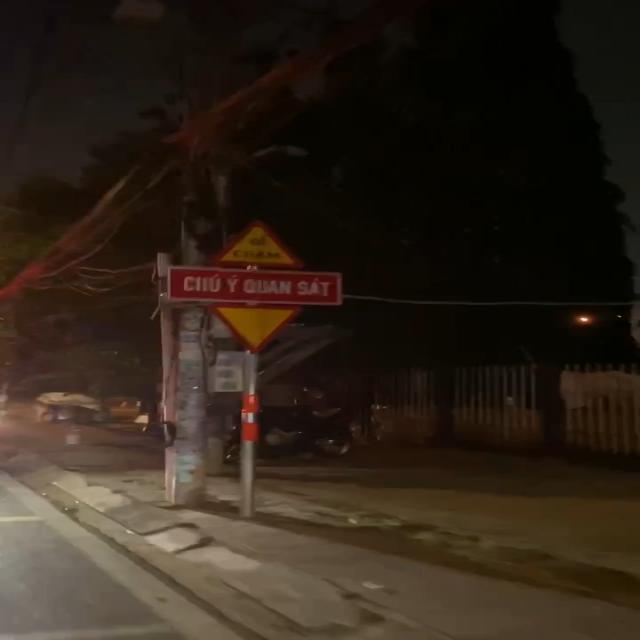208-giao-nhau-voi-duong-uu-tien: (203, 300, 304, 354)
245-di-cham: (215, 220, 302, 270)
